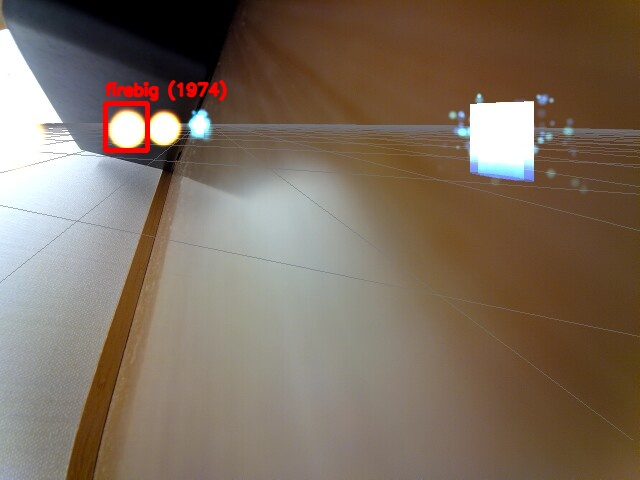firebig: (105, 103, 147, 150)
